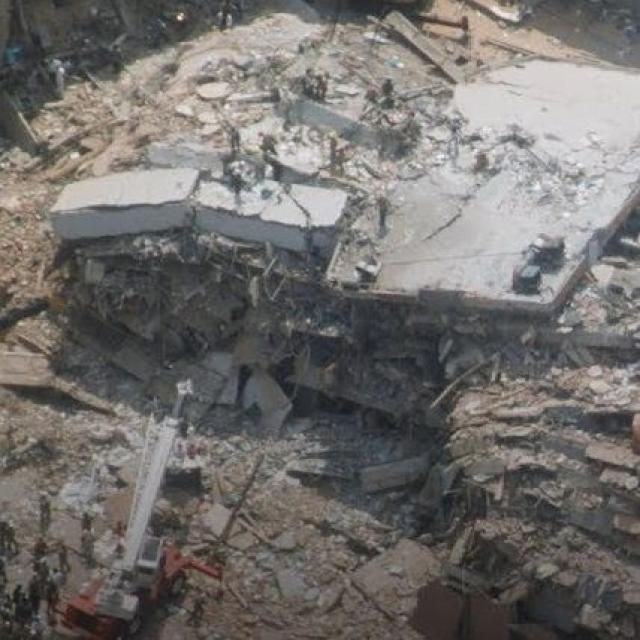collapsed_building: (138, 40, 616, 420)
